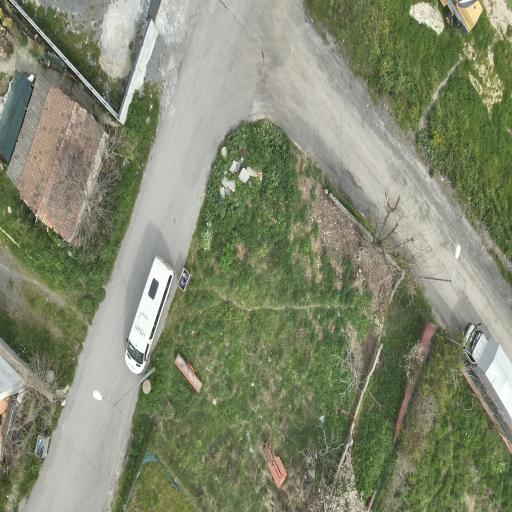bus: (126, 256, 174, 374)
truck: (464, 323, 511, 429), (441, 0, 482, 33)
